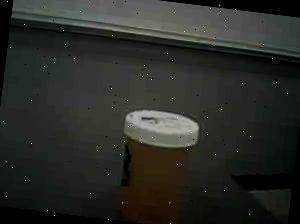Bottle B: (113, 106, 201, 224)
